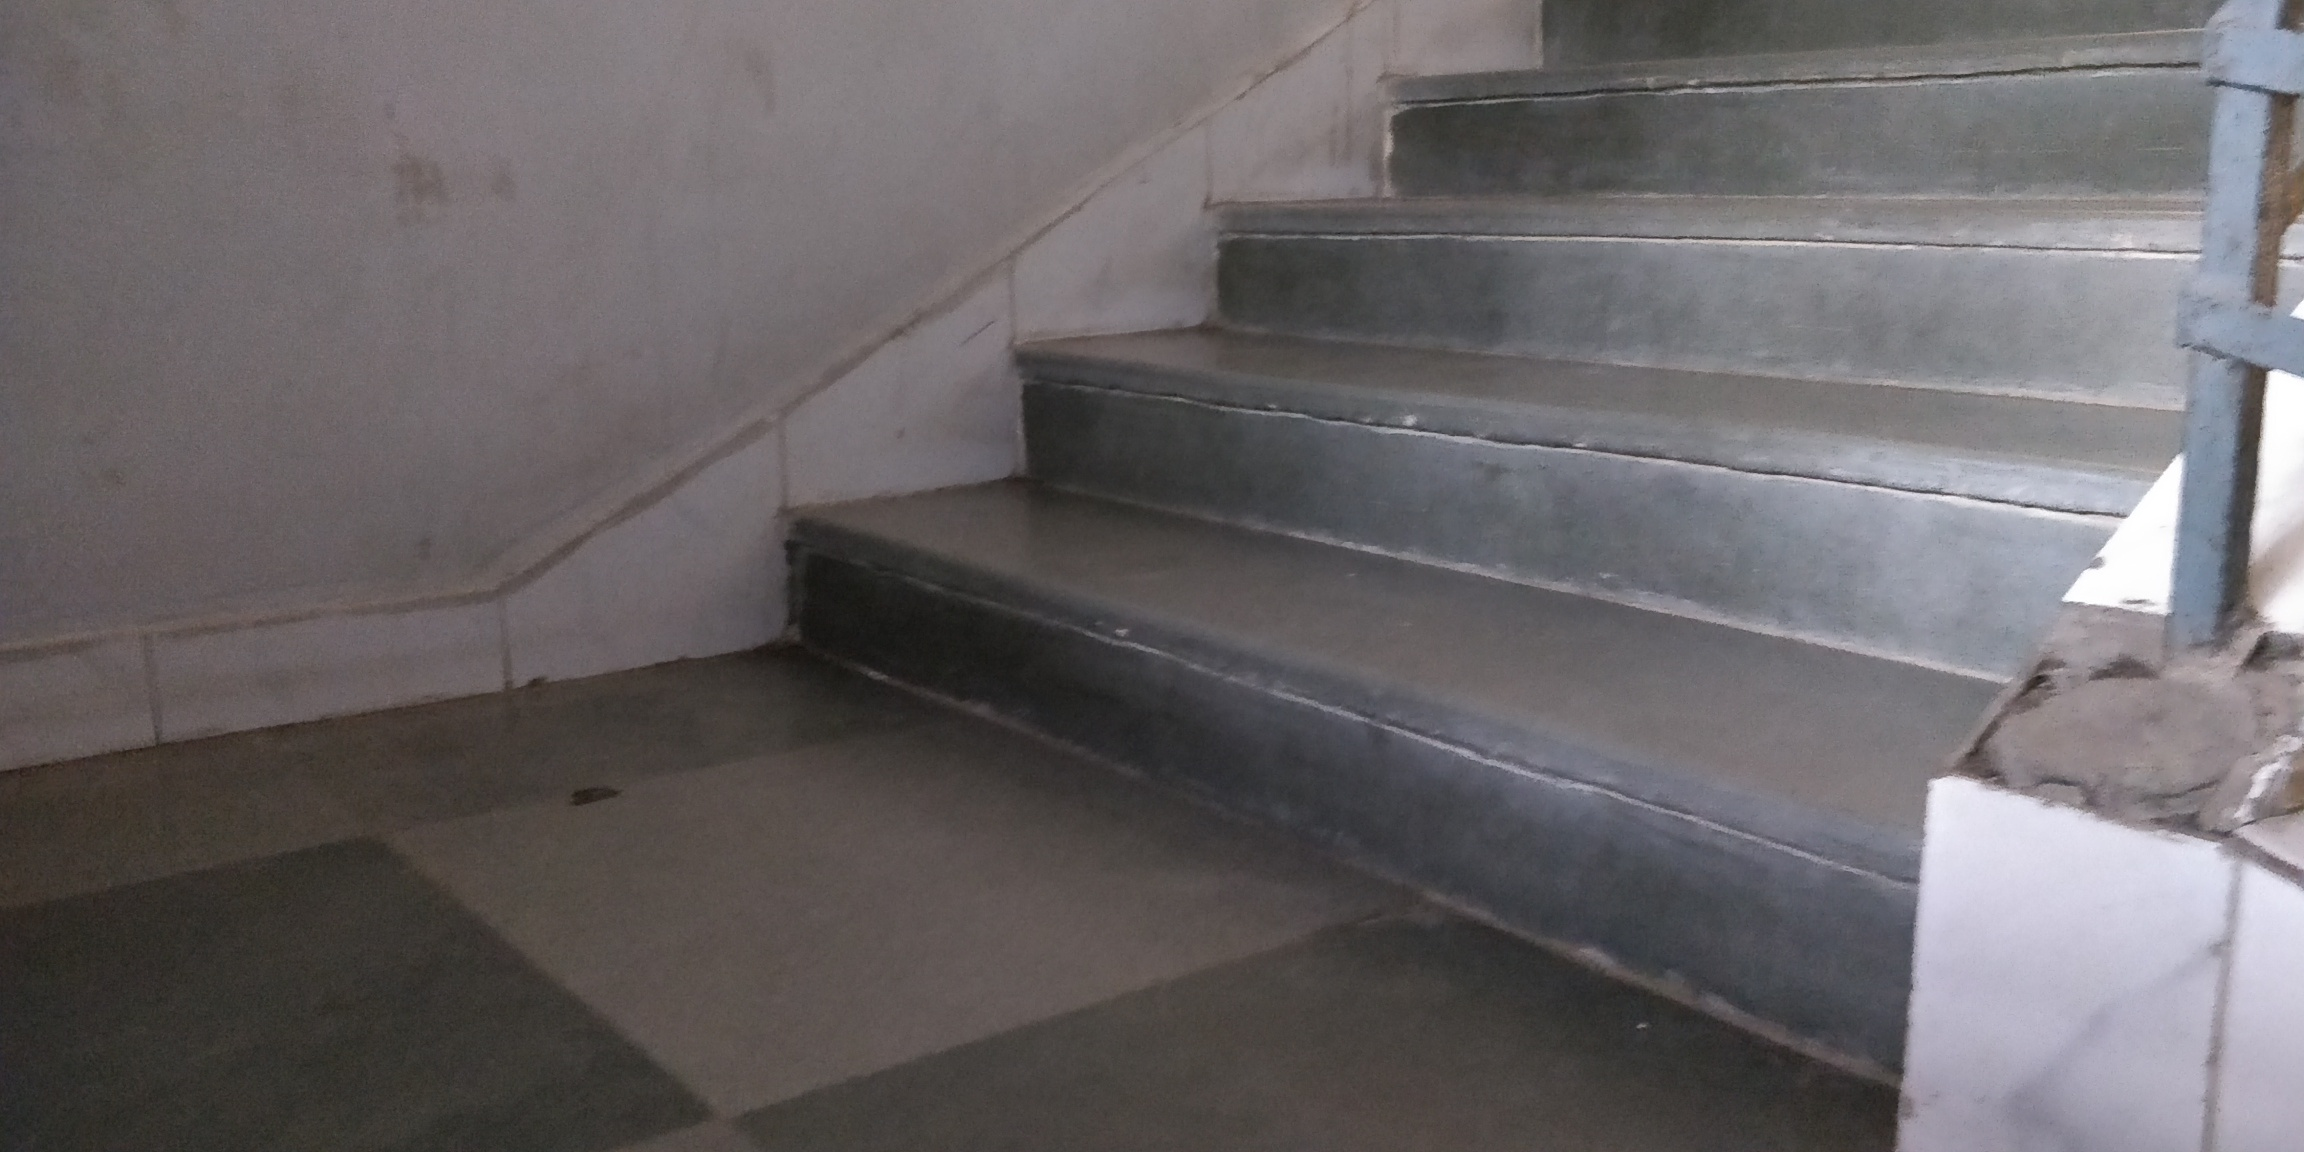stairs_up: (749, 15, 2241, 1040)
